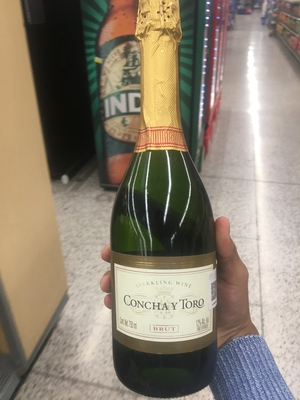brut: (109, 13, 220, 386)
